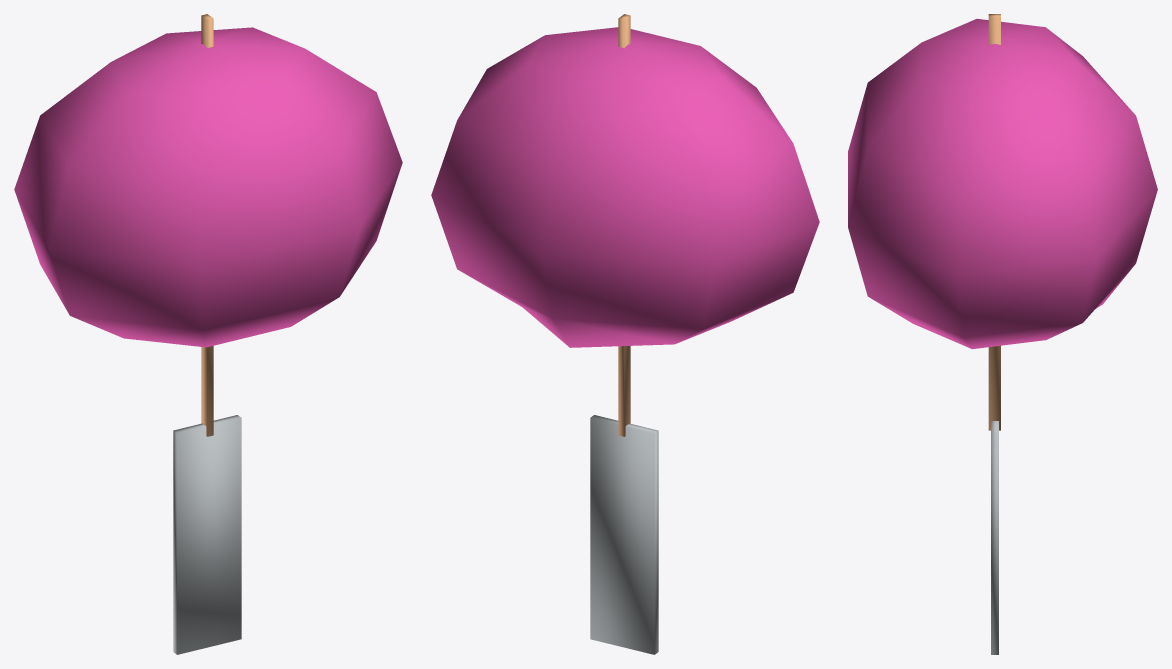
The model's file is Furin_3.fbx.
The picture shows the model from 3 angles, left to right: view 1: azimuth 30°, elevation 25°; view 2: azimuth 150°, elevation 25°; view 3: azimuth 270°, elevation 25°; orthographic projection.
Parts seen in each view (by area): view 1: Furin_3; view 2: Furin_3; view 3: Furin_3.
Boxes of the visible parts, <box> form: Furin_3: <box>14,14,402,654</box>; Furin_3: <box>431,14,819,654</box>; Furin_3: <box>848,14,1157,654</box>.
Size of the model in its own units: 0.2448 by 0.3205 by 0.5438.
